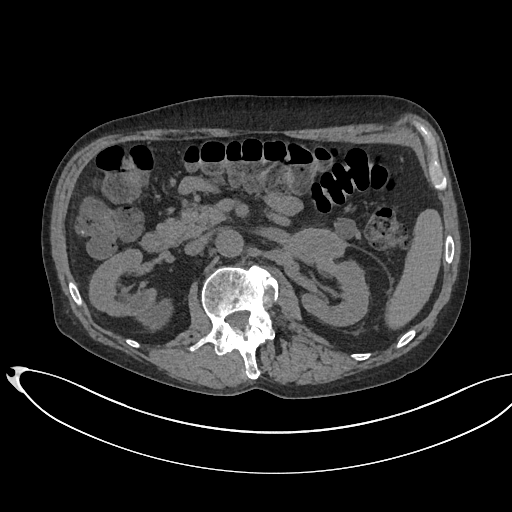Lesion: (293, 226, 346, 262)
